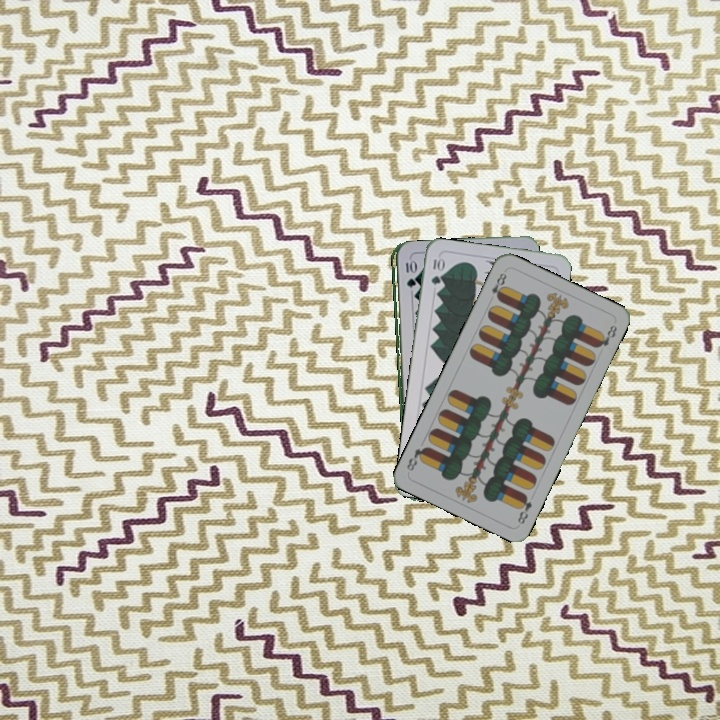E8: (513, 490, 535, 527), (487, 267, 509, 303)
G10: (427, 253, 446, 288), (402, 256, 416, 291)
